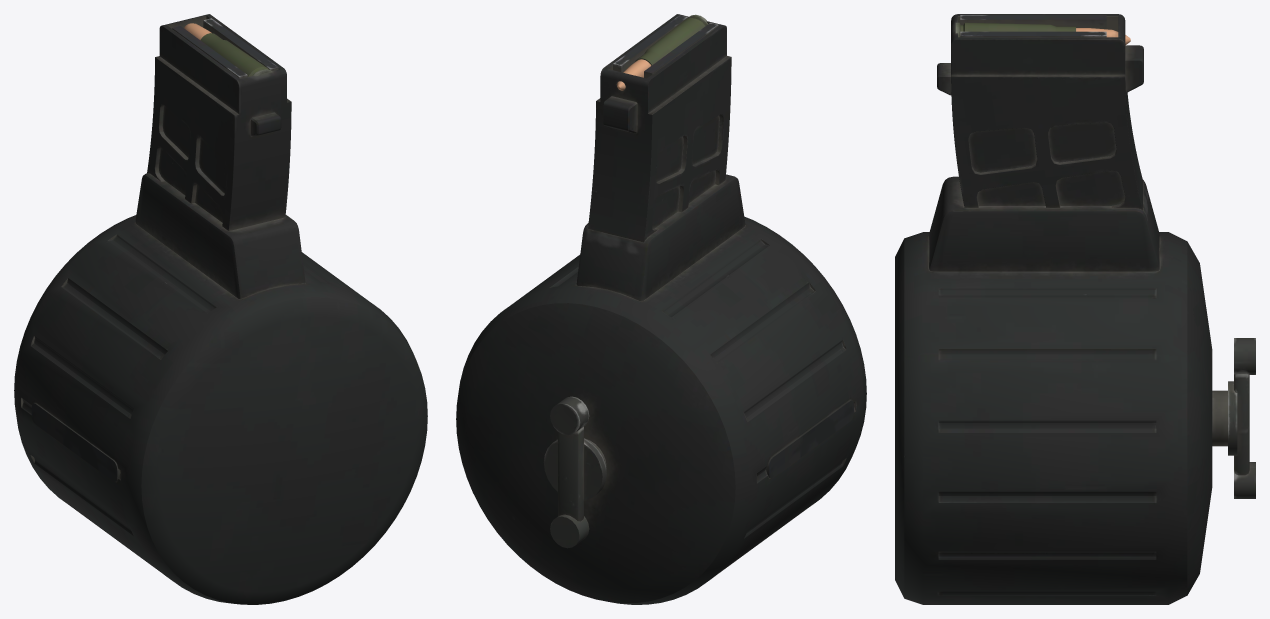
The model's file is tambor_762_75.glb.
The picture shows the model from 3 angles, left to right: view 1: azimuth 30°, elevation 25°; view 2: azimuth 150°, elevation 25°; view 3: azimuth 270°, elevation 25°; orthographic projection. The views are drawn at different scales.
Visible parts, largest first — view 1: tambor_762_75_carregador; view 2: tambor_762_75_carregador; view 3: tambor_762_75_carregador.
Part boxes in pixels (left/top/right/bottom): tambor_762_75_carregador: left=14, top=14, right=427, bottom=604; tambor_762_75_carregador: left=456, top=14, right=866, bottom=604; tambor_762_75_carregador: left=895, top=14, right=1255, bottom=604.
Bounding box in the file's own units: 0.1203 × 0.2003 × 0.116.
Materials: 1 (1 with a texture image).
